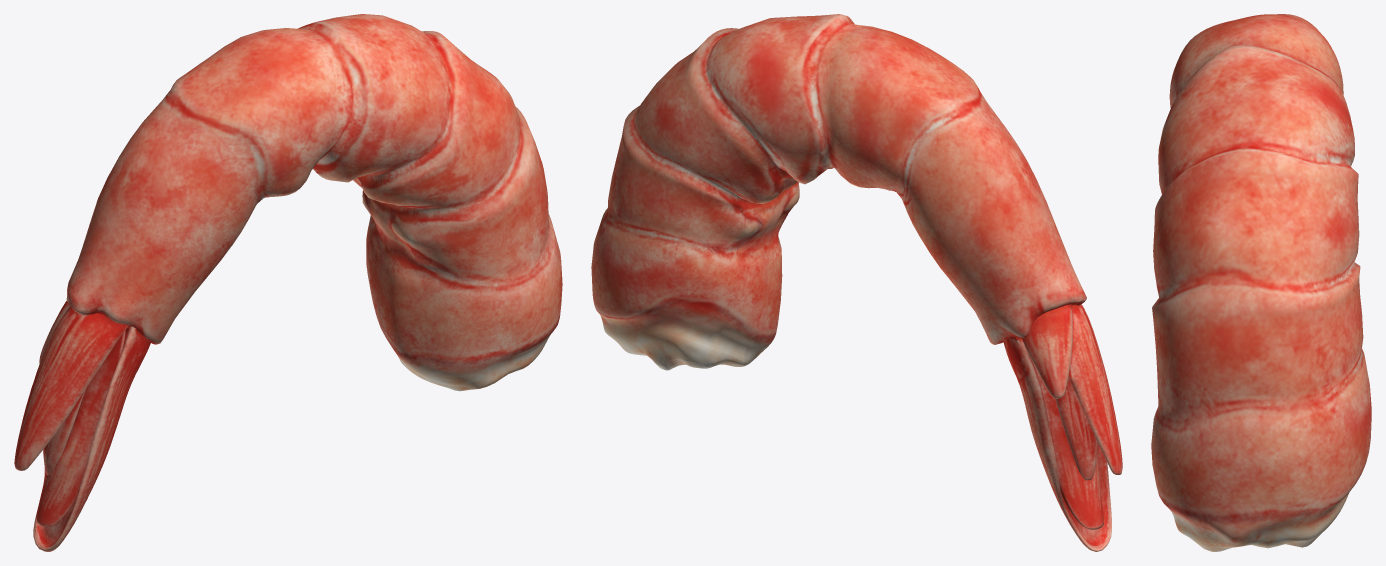
File: shrimp.glb
3 views of the same model, side by side, from view 1: azimuth 30°, elevation 25°; view 2: azimuth 150°, elevation 25°; view 3: azimuth 270°, elevation 25° (orthographic). The views are drawn at different scales.
Parts seen in each view (by area): view 1: Object.1; view 2: Object.1; view 3: Object.1.
Boxes of the visible parts, bbox=[...] form: Object.1: bbox=[14, 14, 562, 551]; Object.1: bbox=[591, 14, 1122, 551]; Object.1: bbox=[1151, 14, 1371, 551].
Size of the model in its own units: 2.77 by 2.31 by 0.9034.
1 material, 1 textured.
